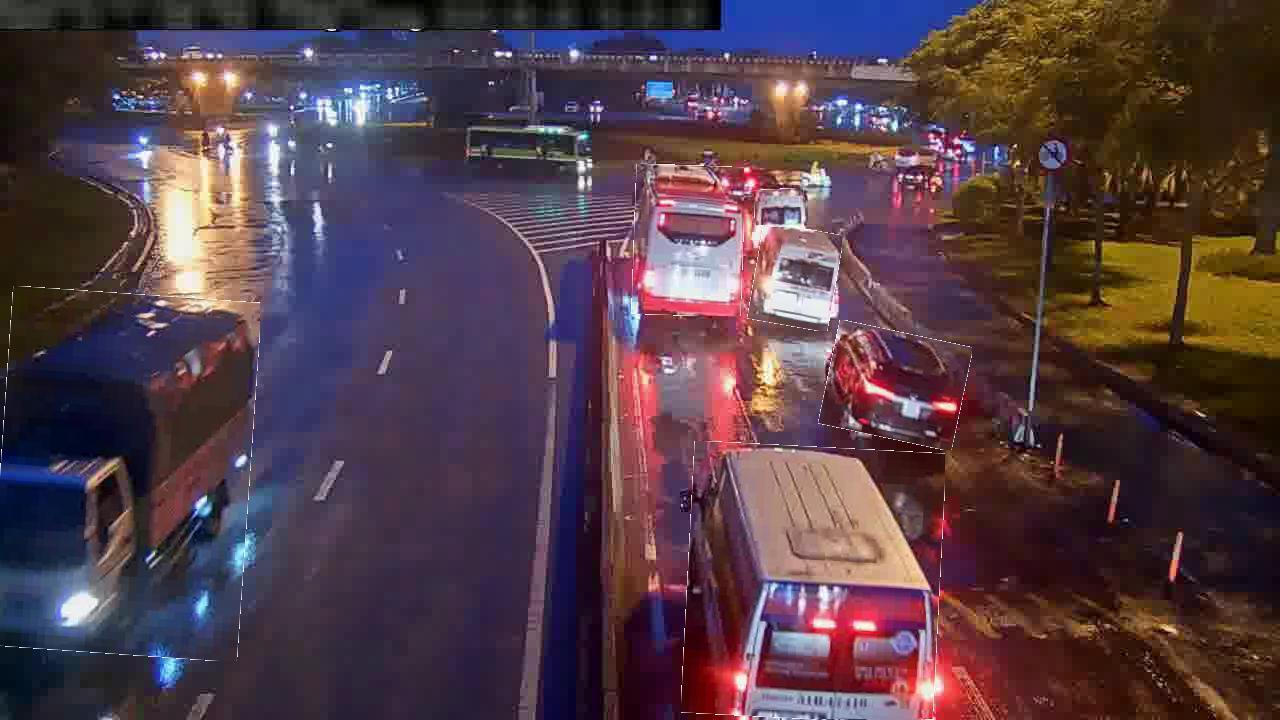14: (684, 444, 944, 719), (633, 165, 744, 317), (751, 225, 840, 329), (755, 188, 805, 228)
8: (0, 290, 256, 659)
container: (823, 327, 969, 445)
